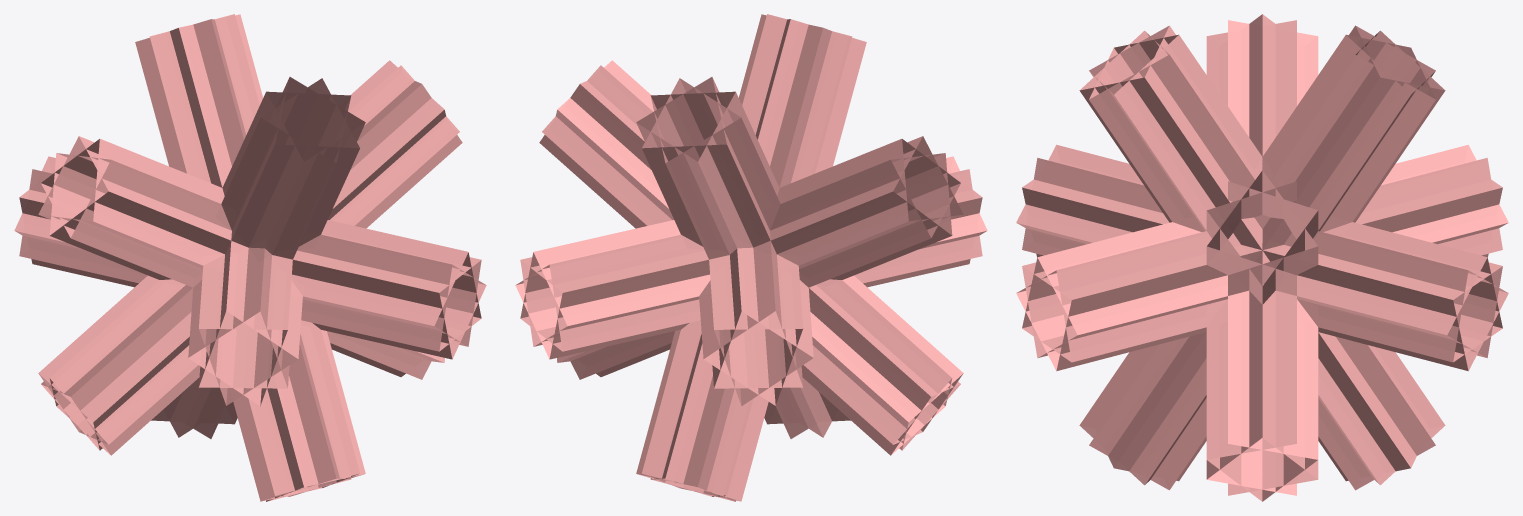
The model's file is GreatIcosihemidodecacron.obj.
3 views of the same model, side by side, from view 1: azimuth 30°, elevation 25°; view 2: azimuth 150°, elevation 25°; view 3: azimuth 270°, elevation 25° (orthographic). The views are drawn at different scales.
Bounding box in the file's own units: 13.61 × 13.61 × 13.61.
